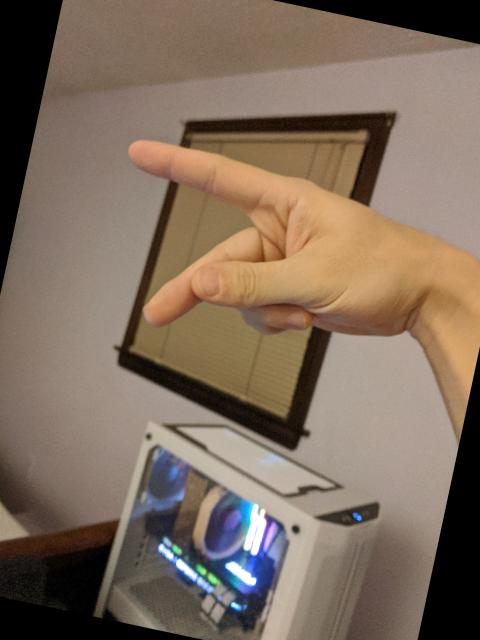P: (89, 129, 452, 389)
